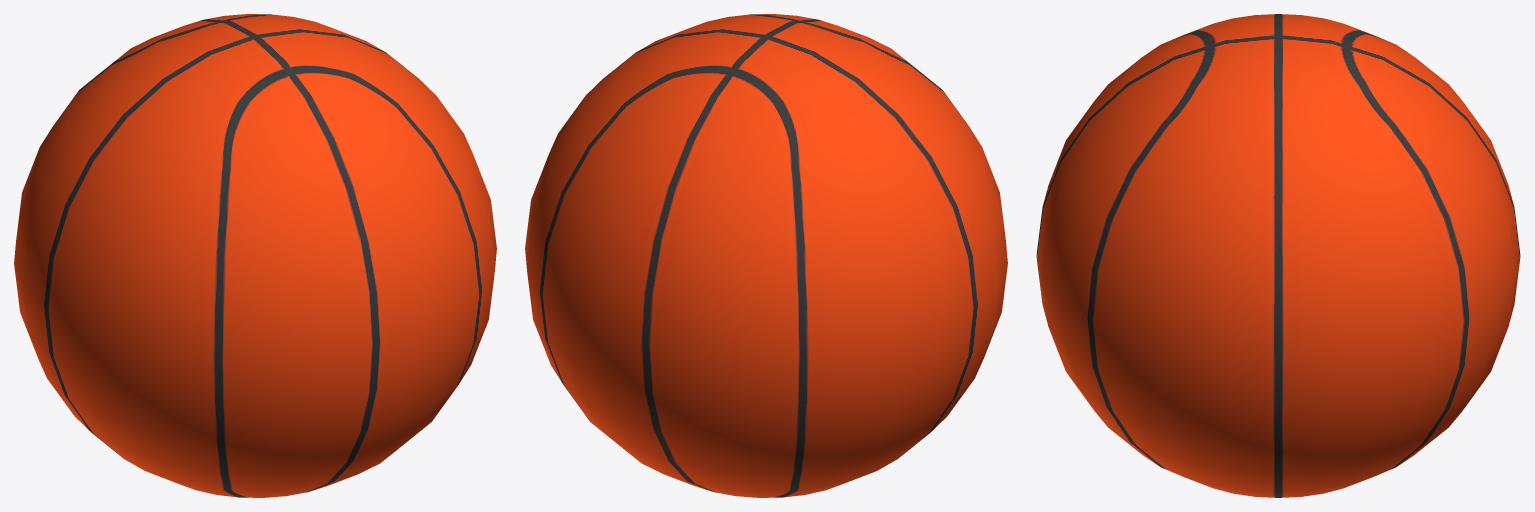
The model's file is PoolBallSport01_1.FBX.
The picture shows the model from 3 angles, left to right: view 1: azimuth 30°, elevation 25°; view 2: azimuth 150°, elevation 25°; view 3: azimuth 270°, elevation 25°; orthographic projection.
Parts seen in each view (by area): view 1: PoolSportBall01_1; view 2: PoolSportBall01_1; view 3: PoolSportBall01_1.
Part boxes in pixels (bbox=[...]): PoolSportBall01_1: bbox=[14, 14, 496, 497]; PoolSportBall01_1: bbox=[525, 14, 1007, 497]; PoolSportBall01_1: bbox=[1036, 14, 1520, 497].
Size of what is drawn, in the model's own units: 0.18 by 0.18 by 0.18.
